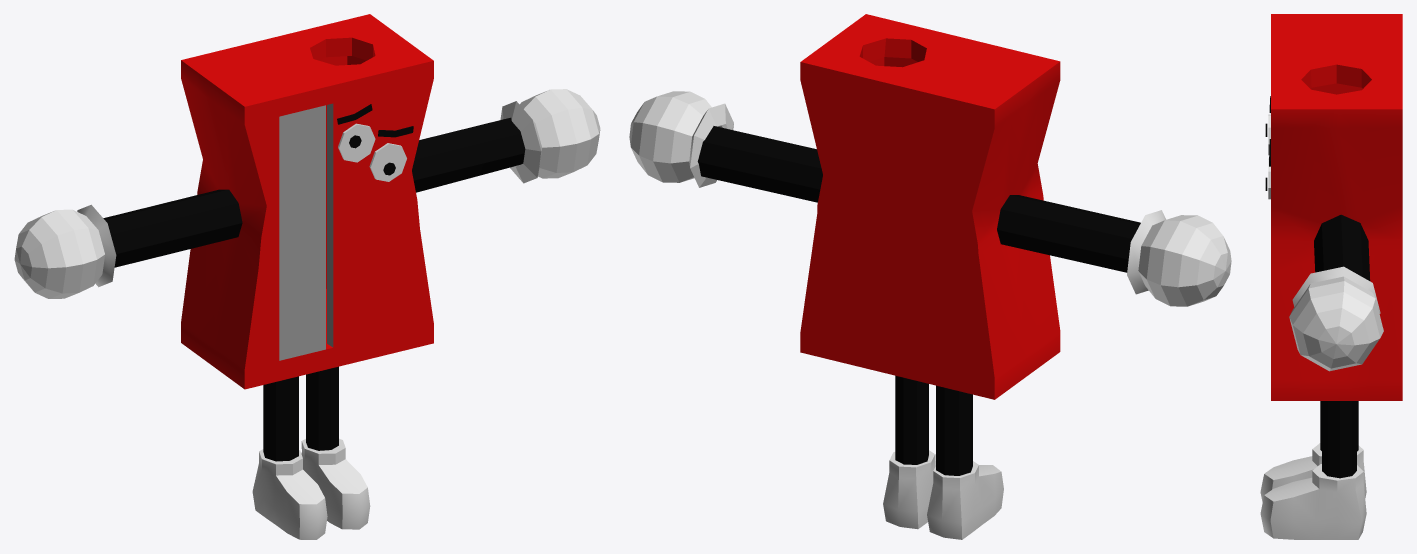
The model's file is Pencil Sharpener character red.fbx.
3 renders of one model, left to right at view 1: azimuth 30°, elevation 25°; view 2: azimuth 150°, elevation 25°; view 3: azimuth 270°, elevation 25°, orthographic. The views are drawn at different scales.
Visible parts, largest first — view 1: polySurface1; view 2: polySurface1; view 3: polySurface1.
Boxes of the visible parts, box(x1,y1,x2,y2) form: polySurface1: box(14, 14, 600, 539); polySurface1: box(629, 14, 1231, 539); polySurface1: box(1260, 14, 1402, 539).
Bounding box in the file's own units: 42.9 × 31.93 × 8.9.
